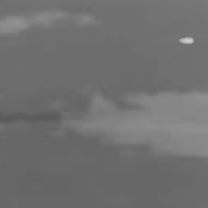Target: (178, 36, 195, 45)
